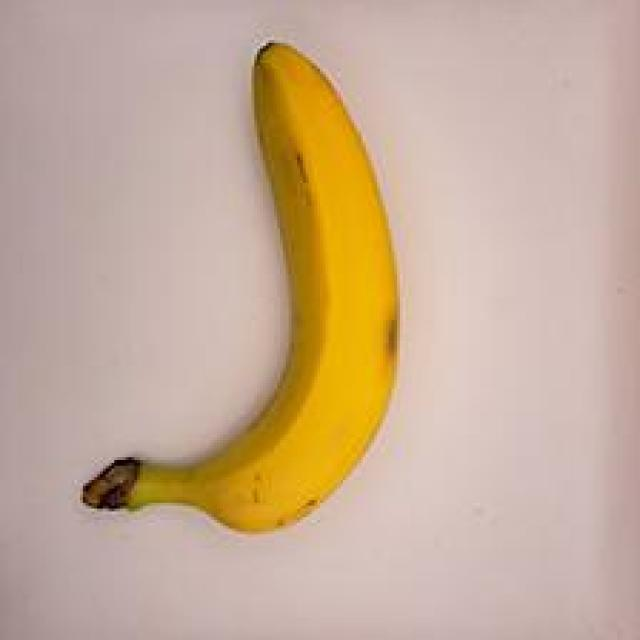Ripe: (36, 35, 439, 532)
